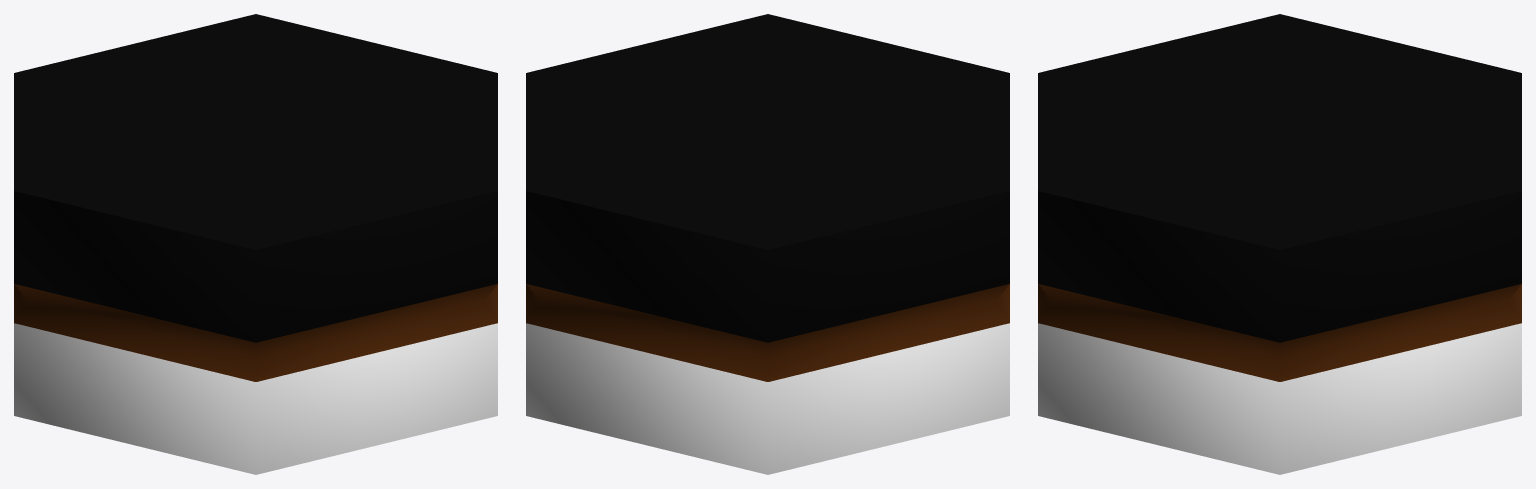
Rendered from Mesh_HiveHorse.fbx.
The picture shows the model from 3 angles, left to right: view 1: azimuth 30°, elevation 25°; view 2: azimuth 150°, elevation 25°; view 3: azimuth 270°, elevation 25°; orthographic projection.
Parts seen in each view (by area): view 1: Cylinder004; view 2: Cylinder004; view 3: Cylinder004.
Part boxes in pixels (box(x1,y1,x2,y2)): Cylinder004: box(14, 14, 497, 474); Cylinder004: box(526, 14, 1009, 474); Cylinder004: box(1038, 14, 1521, 474).
Bounding box in the file's own units: 36 × 16 × 31.18.
